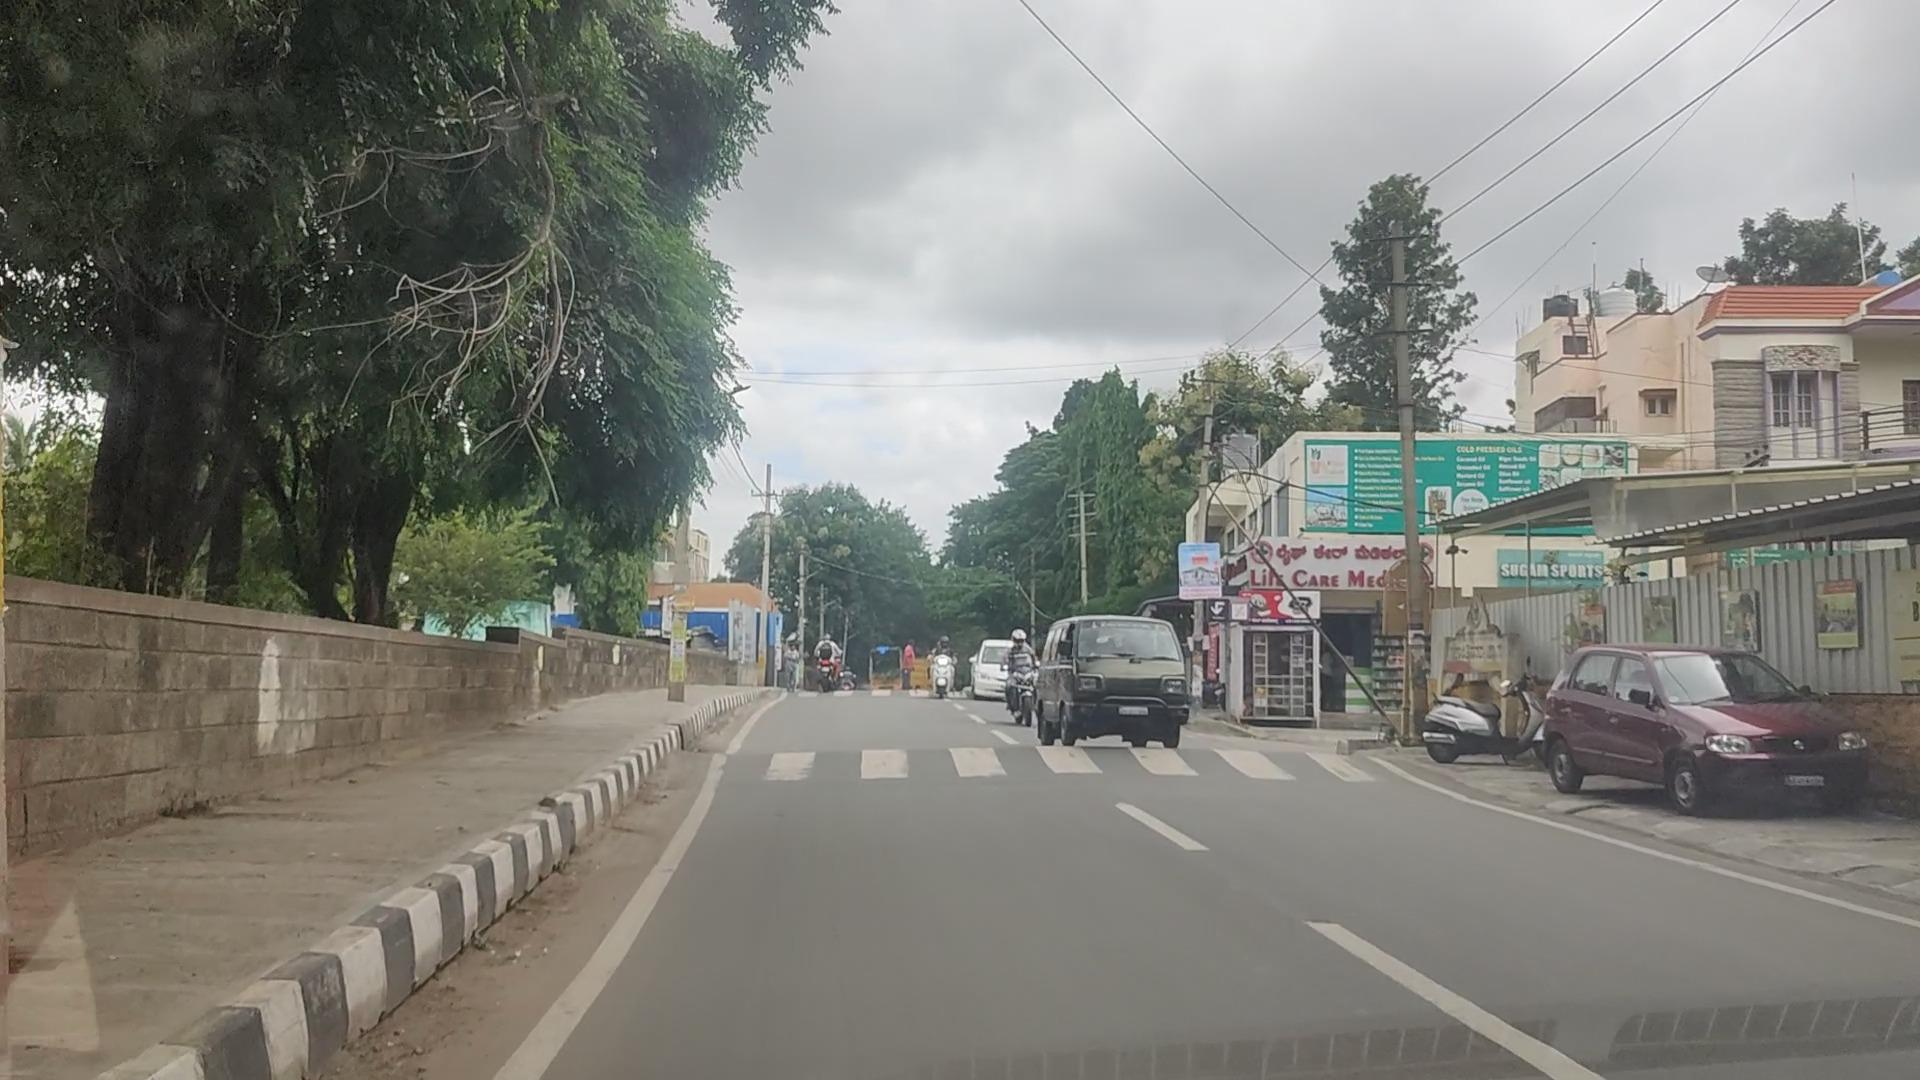LMV: (1040, 616, 1188, 750)
SpeedBump: (696, 740, 1361, 778)
